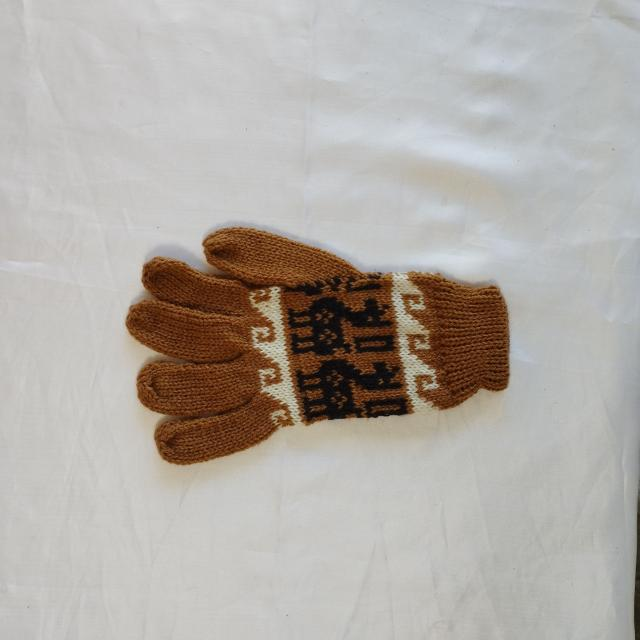Guante: (124, 224, 510, 466)
